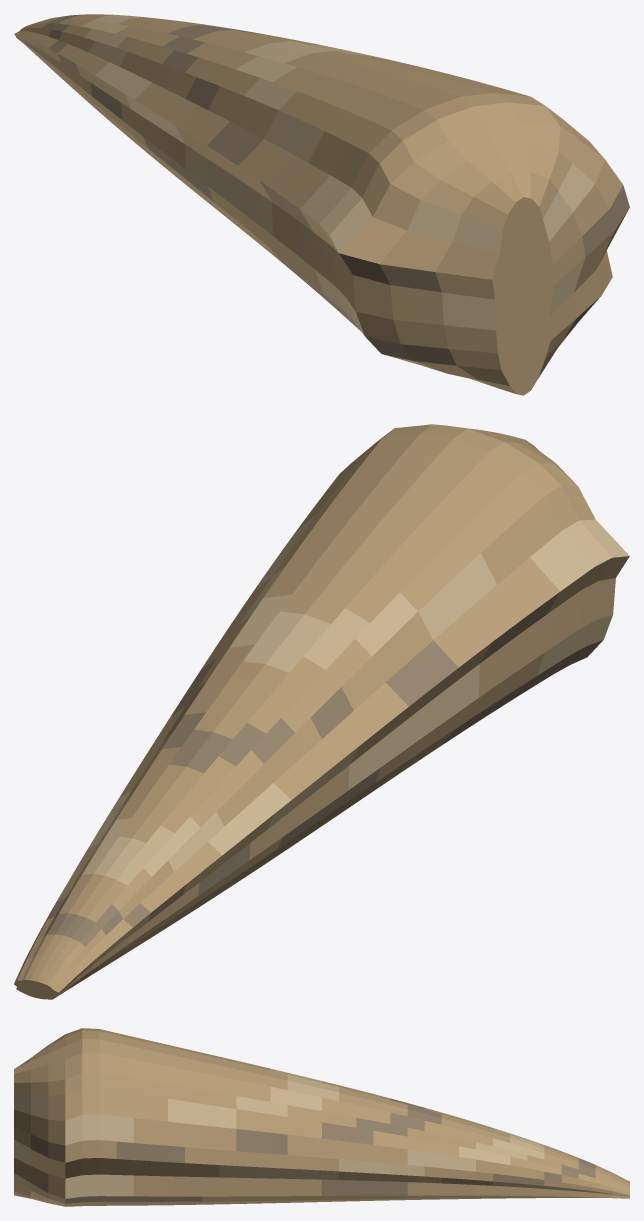
The picture shows the model from 3 angles, top to bottom: view 1: azimuth 30°, elevation 25°; view 2: azimuth 150°, elevation 25°; view 3: azimuth 270°, elevation 25°; orthographic projection. The views are drawn at different scales.
Parts seen in each view (by area): view 1: single_wind_eroded_longitudinally_fluted_ridge; view 2: single_wind_eroded_longitudinally_fluted_ridge; view 3: single_wind_eroded_longitudinally_fluted_ridge.
Boxes of the visible parts, box(x1,y1,x2,y2) form: single_wind_eroded_longitudinally_fluted_ridge: box(14, 14, 629, 395); single_wind_eroded_longitudinally_fluted_ridge: box(14, 424, 629, 999); single_wind_eroded_longitudinally_fluted_ridge: box(14, 1028, 629, 1206).
Bounding box in the file's own units: 2.76 × 2.25 × 8.
